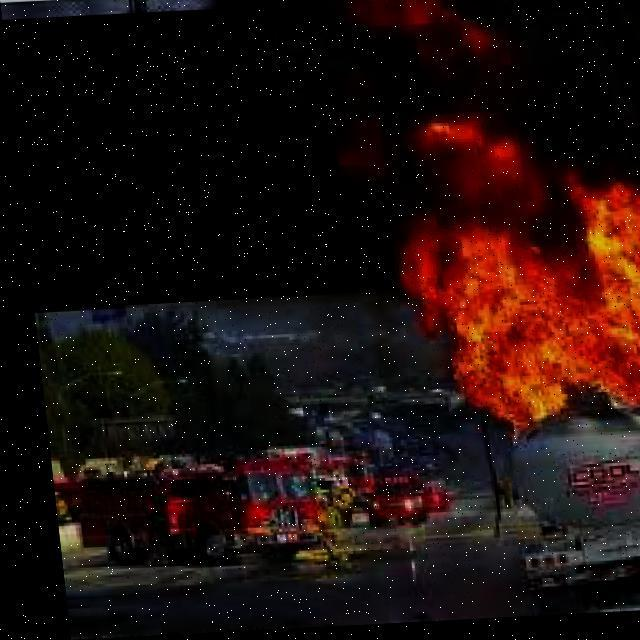Fire: (364, 113, 639, 441)
